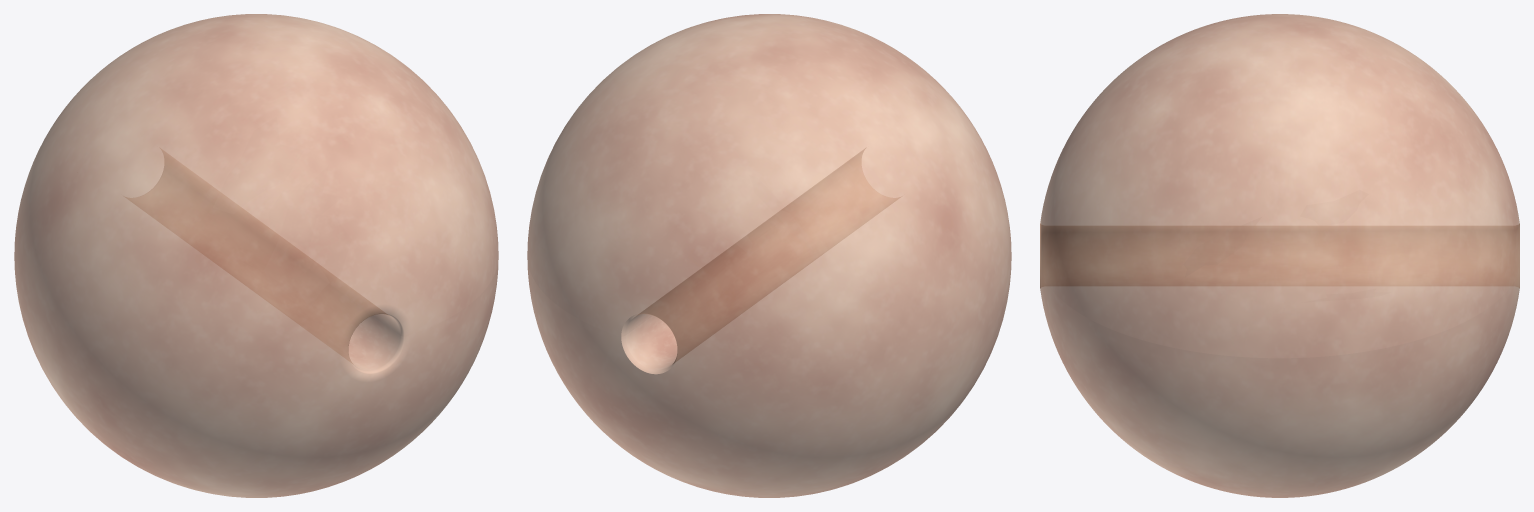
The model's file is morganite.glb.
3 views of the same model, side by side, from view 1: azimuth 30°, elevation 25°; view 2: azimuth 150°, elevation 25°; view 3: azimuth 270°, elevation 25° (orthographic).
Parts seen in each view (by area): view 1: morganite.001; view 2: morganite.001; view 3: morganite.001.
Part boxes in pixels (x1,y1,x2,y2): morganite.001: (14, 14, 498, 497); morganite.001: (527, 14, 1011, 497); morganite.001: (1040, 14, 1519, 497).
Bounding box in the file's own units: 0.008 × 0.008 × 0.00793.
Materials: 2 (1 with a texture image).
